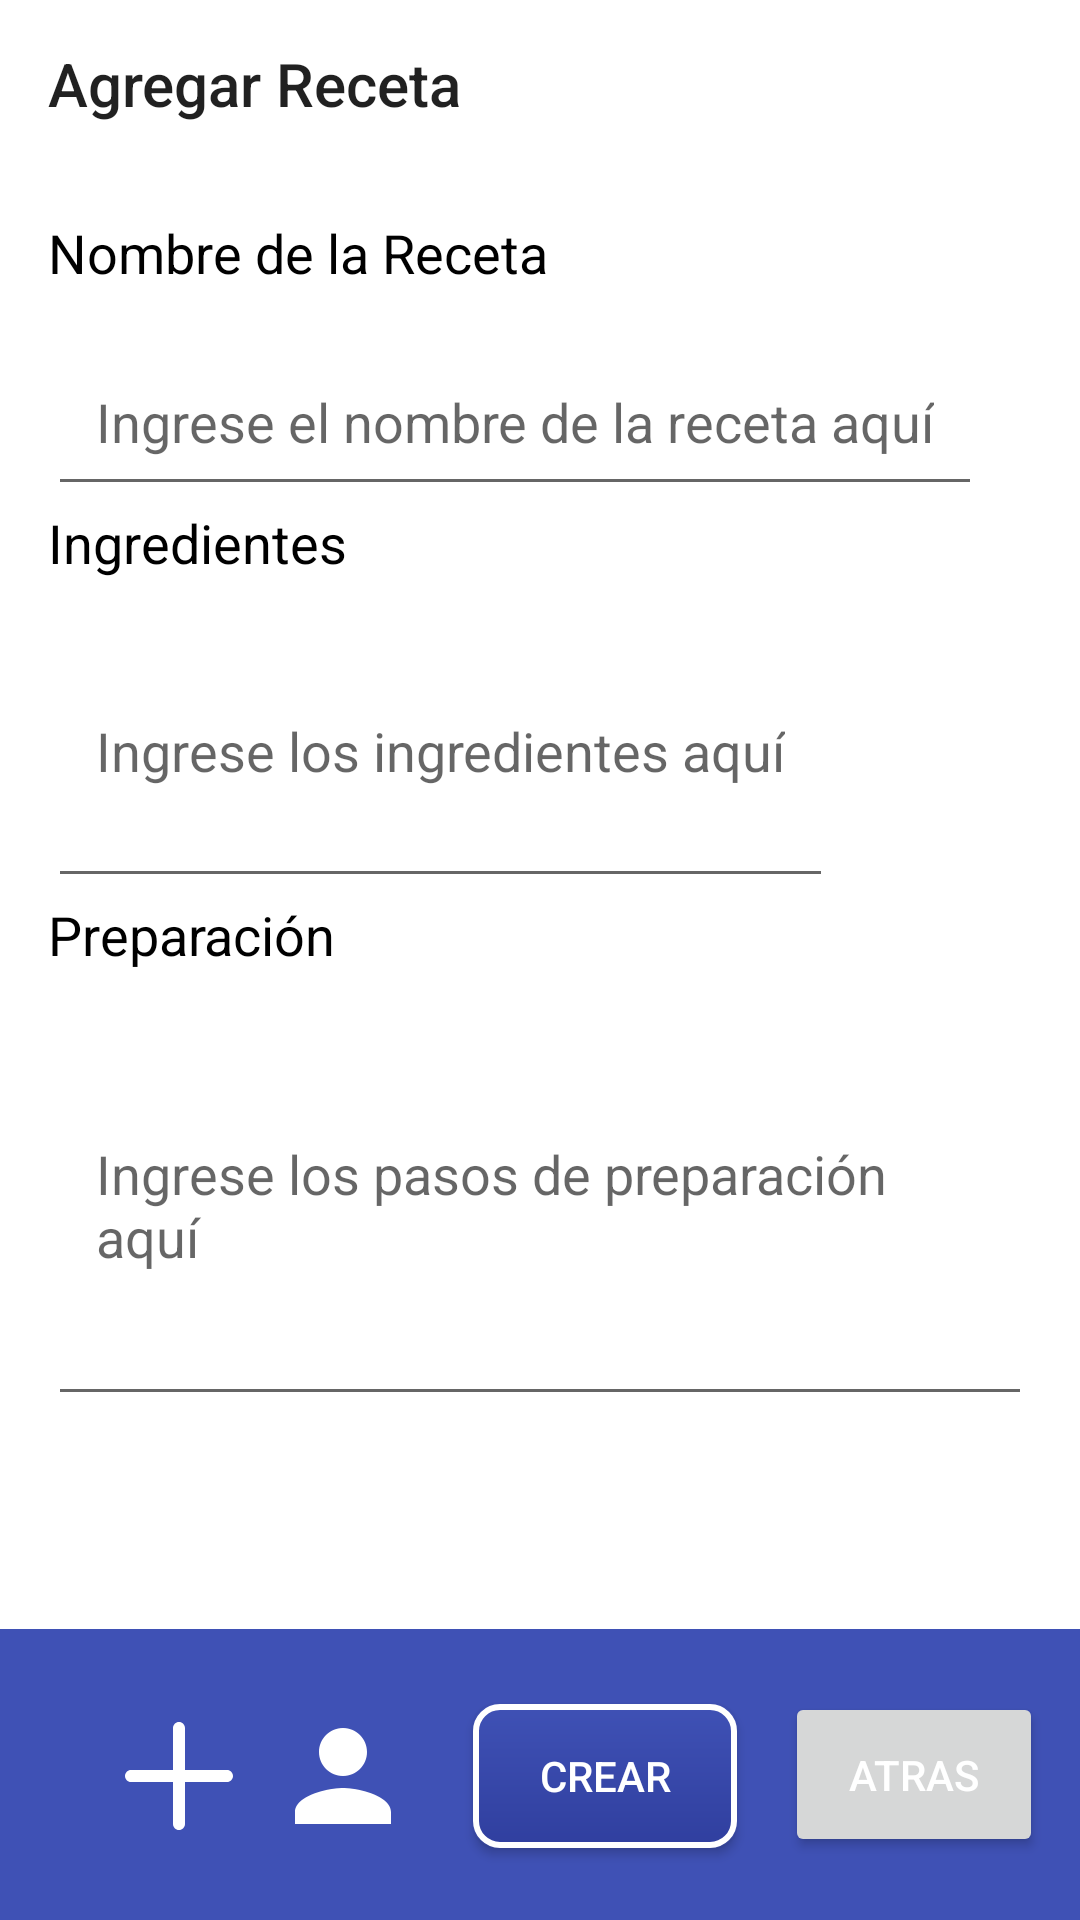

Locate icon controls on the screen. Image size 1080w x 1920h, boxes as (x1=x1, y1=y1, x2=x2, y2=y2).
add: (x1=125, y1=1722, x2=233, y2=1830)
person: (x1=295, y1=1728, x2=391, y2=1824)
